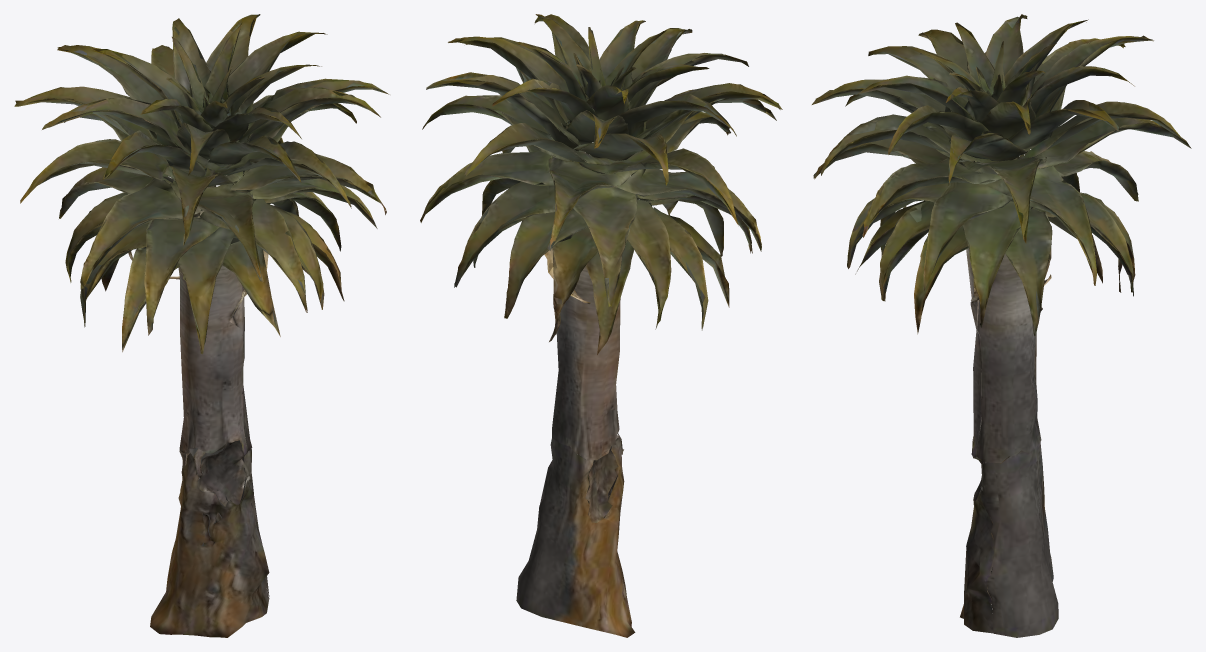
Rendered from quiver_tree_02.gltf.
The picture shows the model from 3 angles, left to right: view 1: azimuth 30°, elevation 25°; view 2: azimuth 150°, elevation 25°; view 3: azimuth 270°, elevation 25°; orthographic projection.
Parts seen in each view (by area): view 1: quiver_tree_02; view 2: quiver_tree_02; view 3: quiver_tree_02.
Part boxes in pixels (x1,y1,x2,y2): quiver_tree_02: (14, 14, 389, 637); quiver_tree_02: (420, 14, 782, 637); quiver_tree_02: (812, 14, 1191, 637).
Size of the model in its own units: 0.8709 by 1.47 by 0.8749.
Materials: 1 (1 with a texture image).
